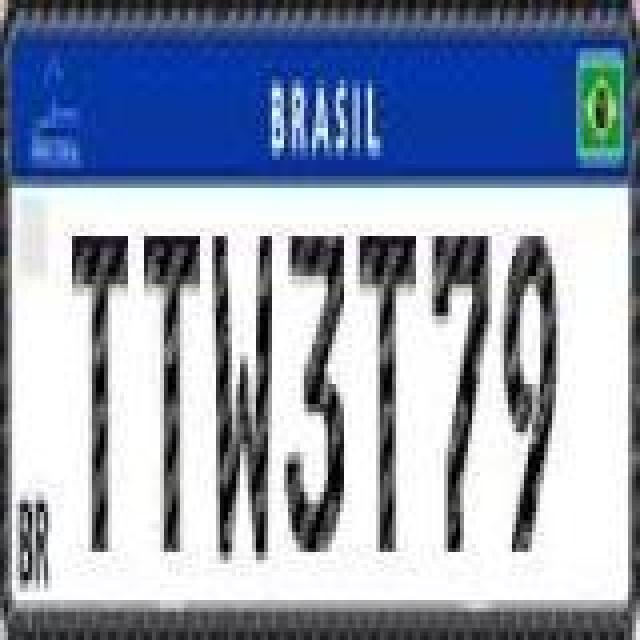3: (280, 226, 344, 550)
7: (428, 226, 492, 550)
9: (496, 224, 560, 560)
T: (140, 226, 204, 550), (70, 230, 130, 554), (358, 230, 418, 554)
W: (208, 232, 272, 568)
